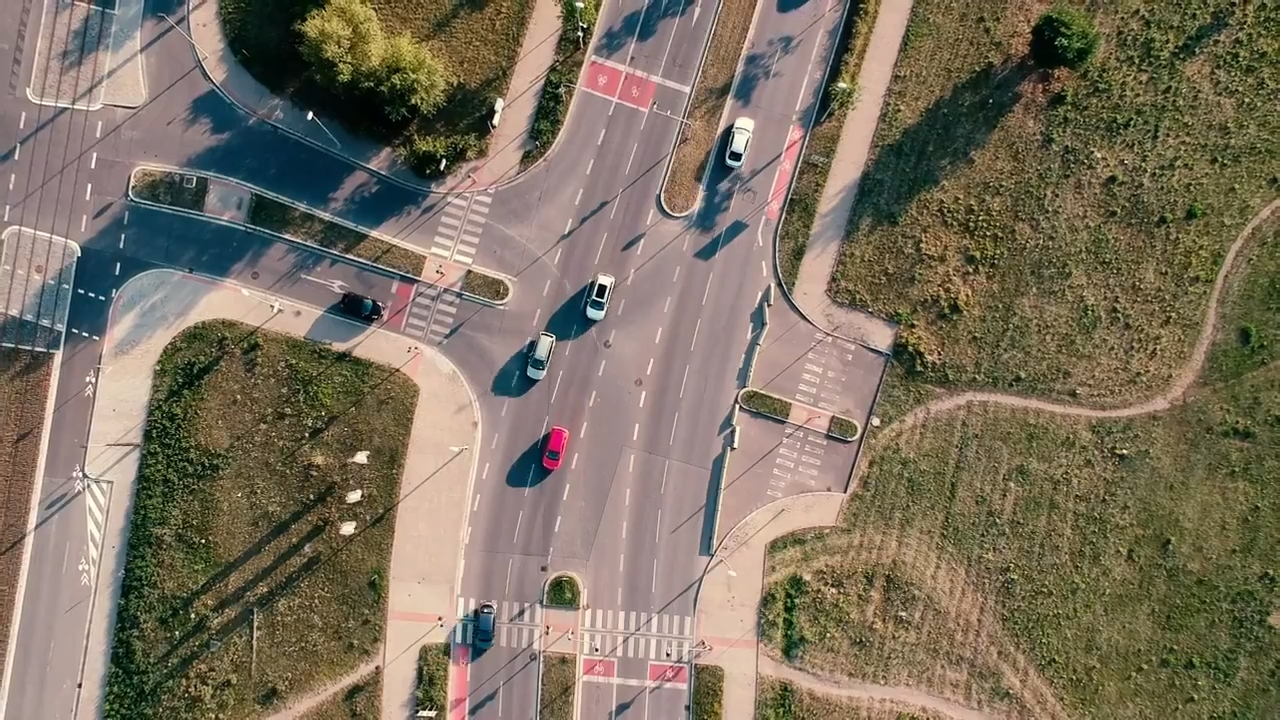car: (724, 113, 758, 170), (338, 290, 389, 324), (525, 331, 559, 381), (467, 602, 500, 653), (587, 275, 618, 327), (541, 423, 570, 477)
